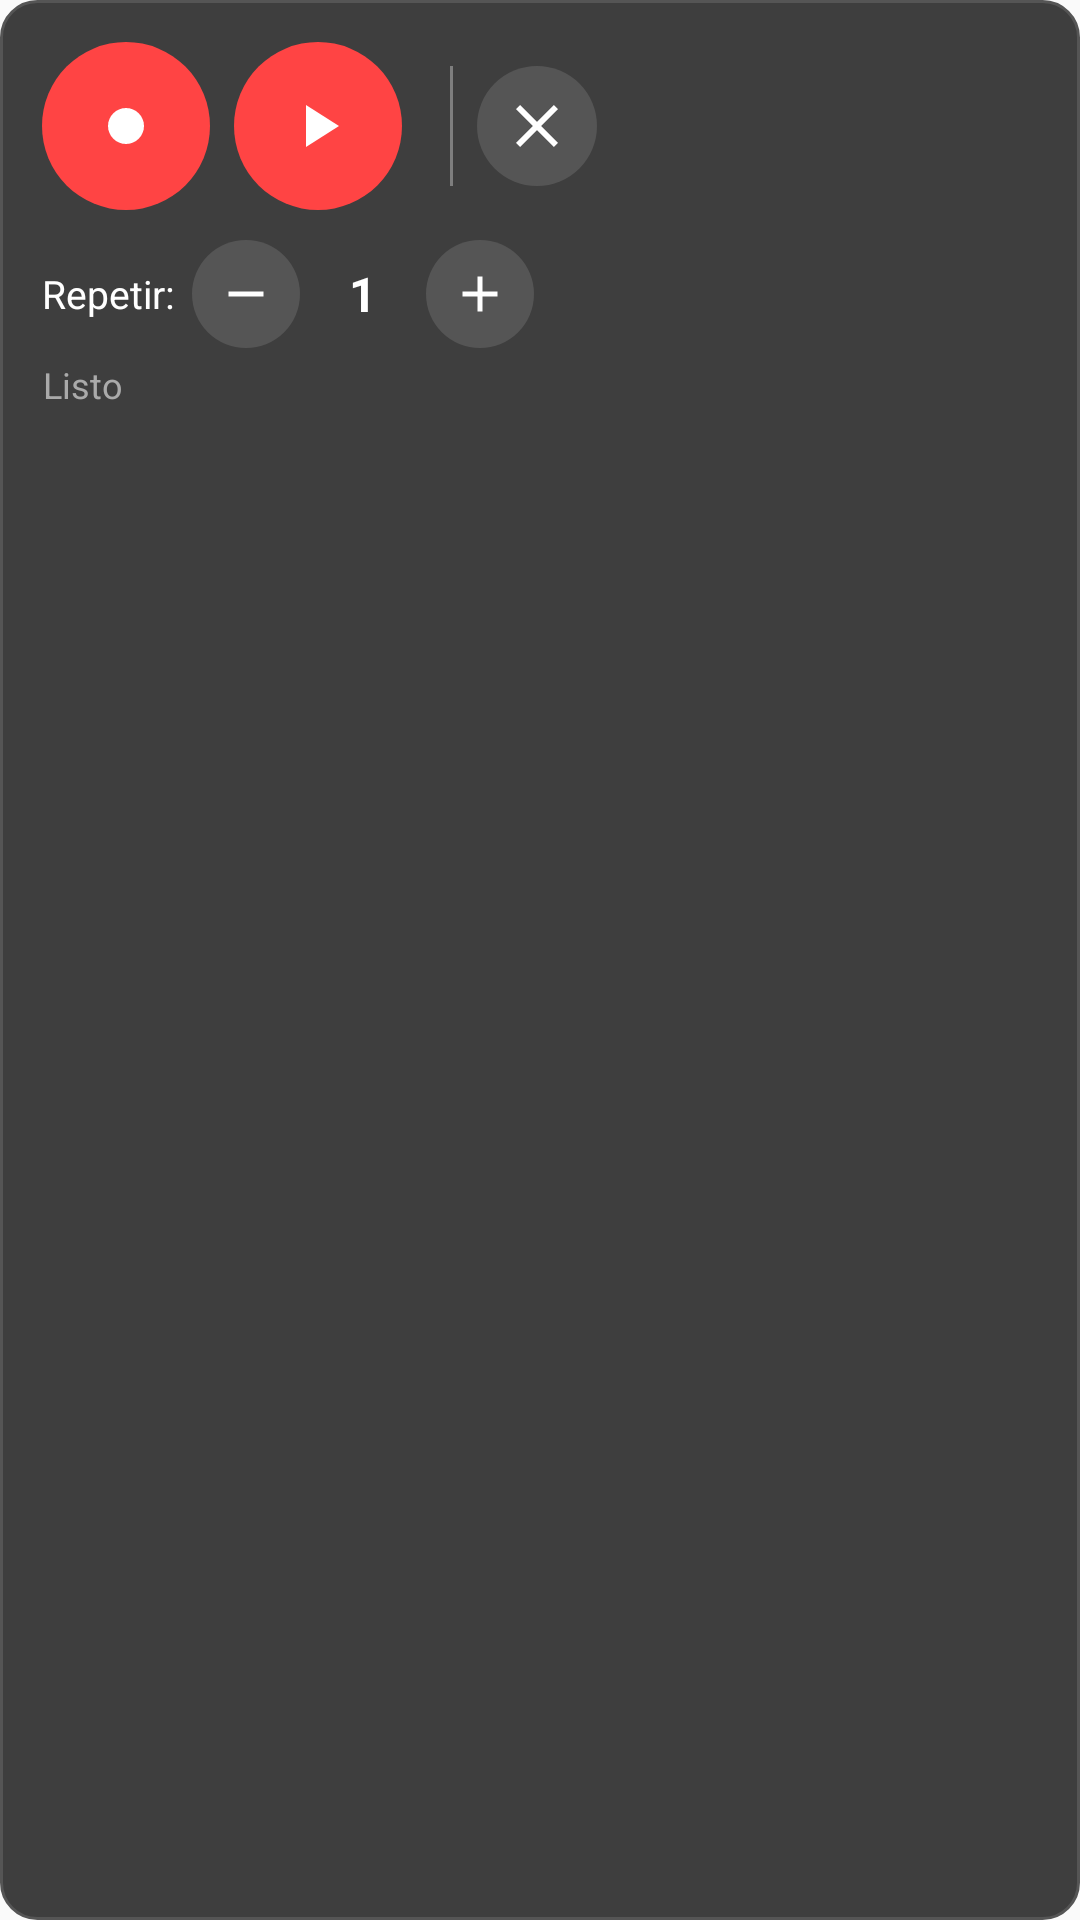

Screen size 1080w x 1920h. Icon name, then its box in pixels as [x1=x1, y1=y1, x2=x2, y2=y2]:
Close: [x1=477, y1=66, x2=597, y2=186]
Menos: [x1=228, y1=291, x2=264, y2=297]
Más: [x1=426, y1=240, x2=534, y2=348]
Play: [x1=234, y1=42, x2=402, y2=210]
Record: [x1=42, y1=42, x2=210, y2=210]
